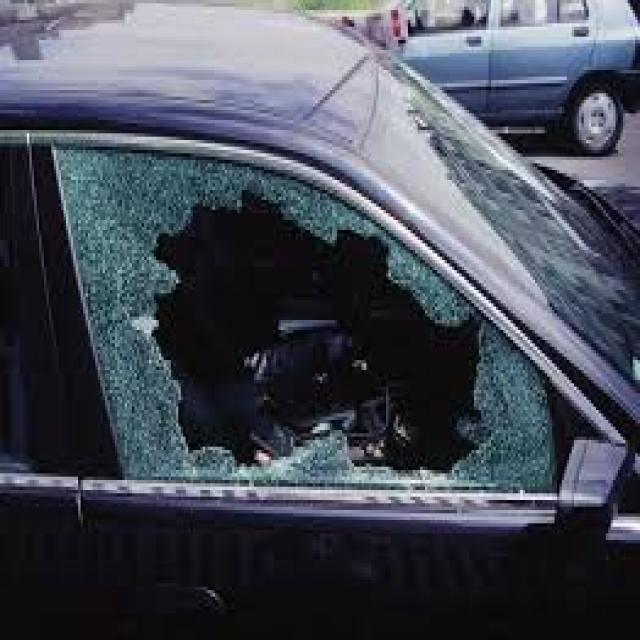damaged-window: (38, 128, 581, 504)
